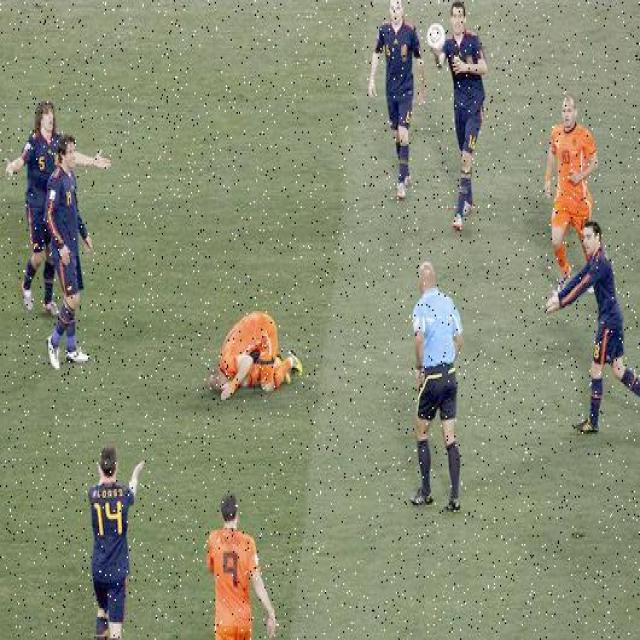fall: (206, 309, 302, 393)
